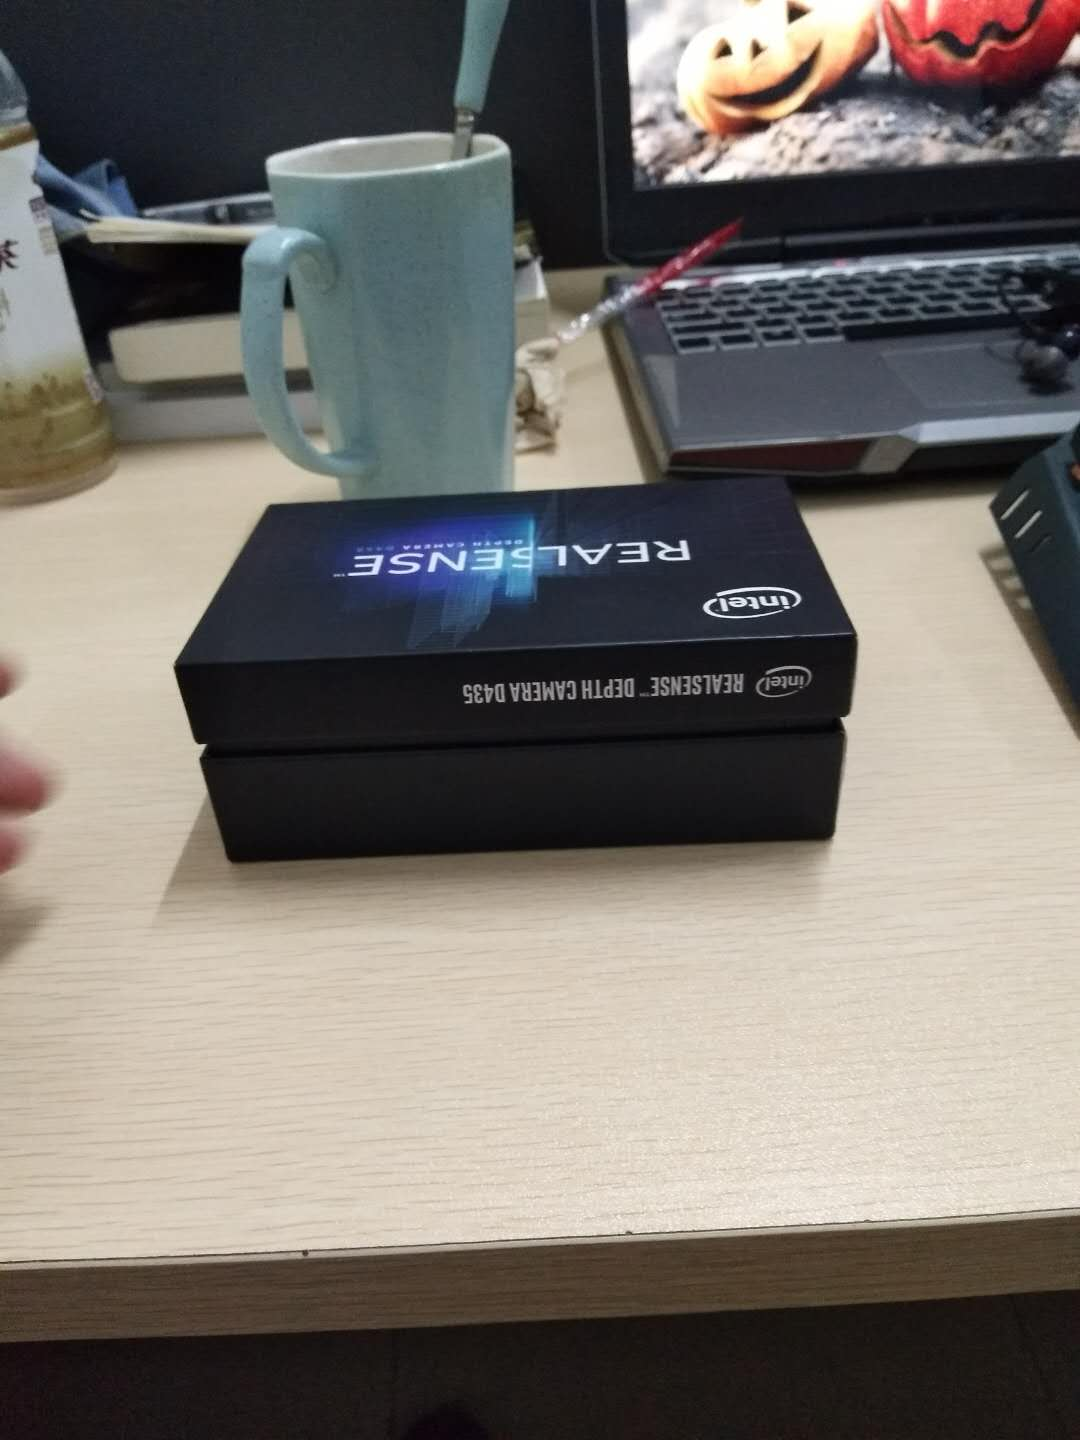box: (176, 493, 881, 866)
